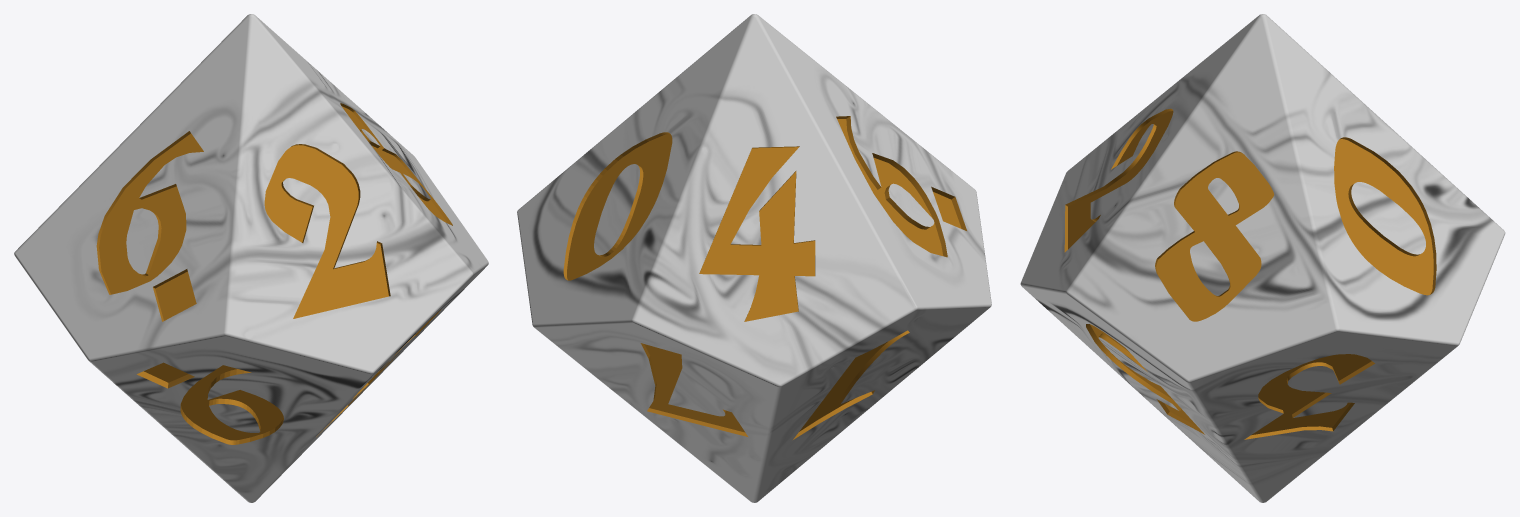
Rendered from D10-Marble.glb.
The picture shows the model from 3 angles, left to right: view 1: azimuth 30°, elevation 25°; view 2: azimuth 150°, elevation 25°; view 3: azimuth 270°, elevation 25°; orthographic projection.
Visible parts, largest first — view 1: D10.marble-convcol; view 2: D10.marble-convcol; view 3: D10.marble-convcol.
Boxes of the visible parts, x1,y1,x2,y2 form: D10.marble-convcol: [14, 14, 488, 502]; D10.marble-convcol: [517, 14, 991, 502]; D10.marble-convcol: [1020, 14, 1505, 502].
Size of the model in its own units: 1.69 by 1.98 by 1.78.
1 material, 1 textured.
